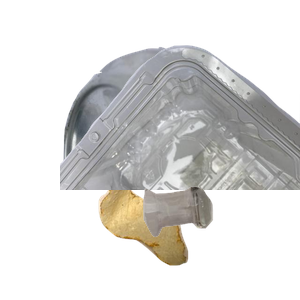glass: (141, 184, 300, 300)
metal: (60, 44, 300, 224)
plastic: (60, 43, 300, 223)
trash: (96, 181, 277, 300)
